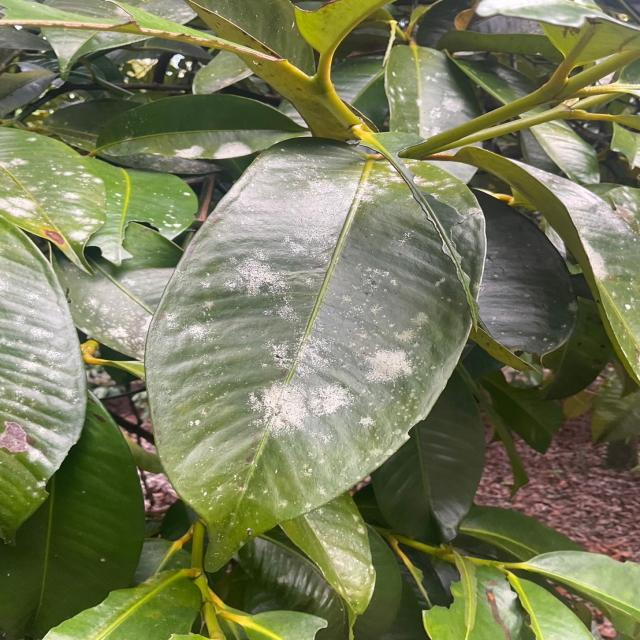Leaf Spot: (357, 253, 451, 410), (208, 354, 357, 436), (14, 285, 93, 417), (0, 153, 107, 242), (208, 244, 329, 316), (198, 464, 326, 516), (414, 62, 499, 138), (170, 126, 278, 168), (583, 214, 631, 297), (380, 67, 432, 133), (14, 130, 46, 150)
